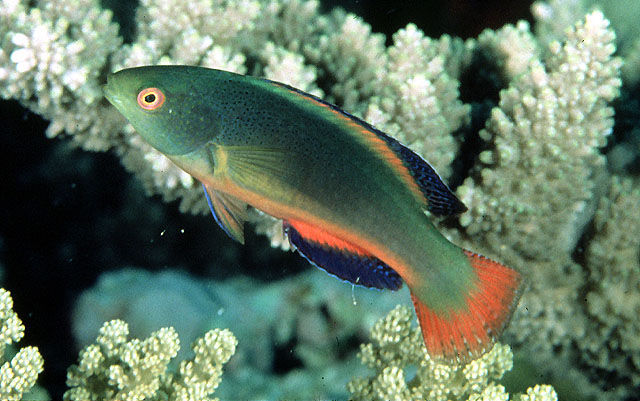fish: (103, 65, 524, 368)
